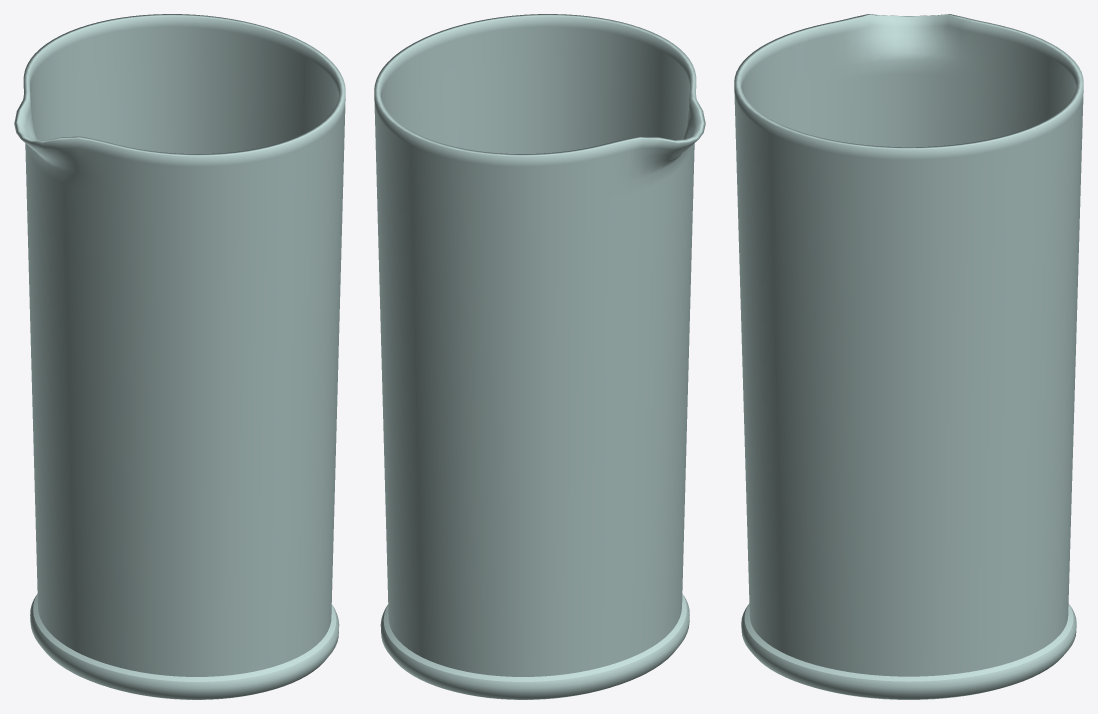
File: demo_graduatedcylinder.glb
3 views of the same model, side by side, from view 1: azimuth 30°, elevation 25°; view 2: azimuth 150°, elevation 25°; view 3: azimuth 270°, elevation 25° (orthographic).
Parts seen in each view (by area): view 1: graduatedCylinder.005; view 2: graduatedCylinder.005; view 3: graduatedCylinder.005.
Part boxes in pixels (left/top/right/bottom): graduatedCylinder.005: left=14, top=14, right=345, bottom=699; graduatedCylinder.005: left=374, top=14, right=705, bottom=699; graduatedCylinder.005: left=734, top=14, right=1083, bottom=699.
Size of the model in its own units: 5.76 by 10.17 by 5.76.
